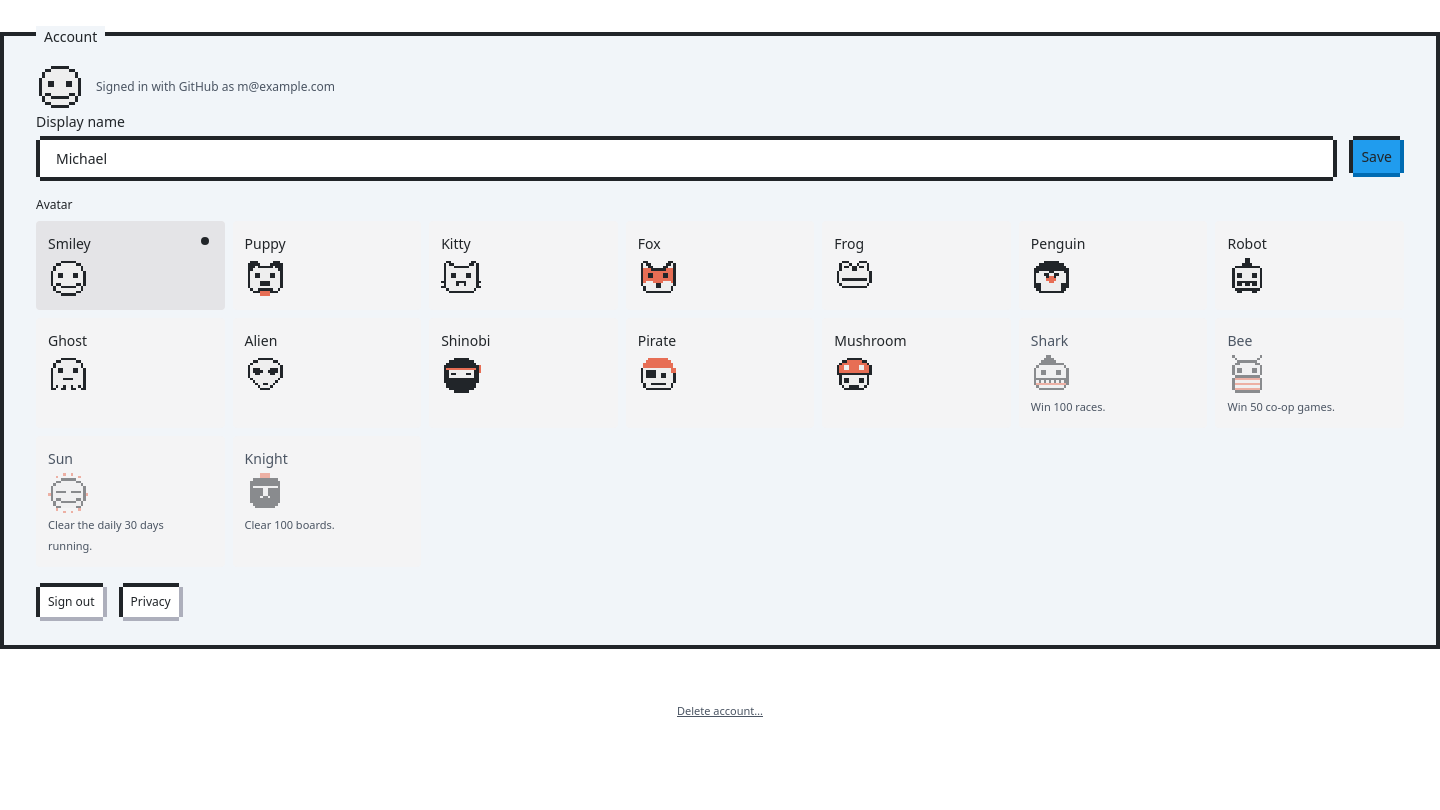
Scenario: saves a rename and confirms it
Replace the text in the field named "Display name" with "Miguel": (687, 158) [40,140,1333,177]
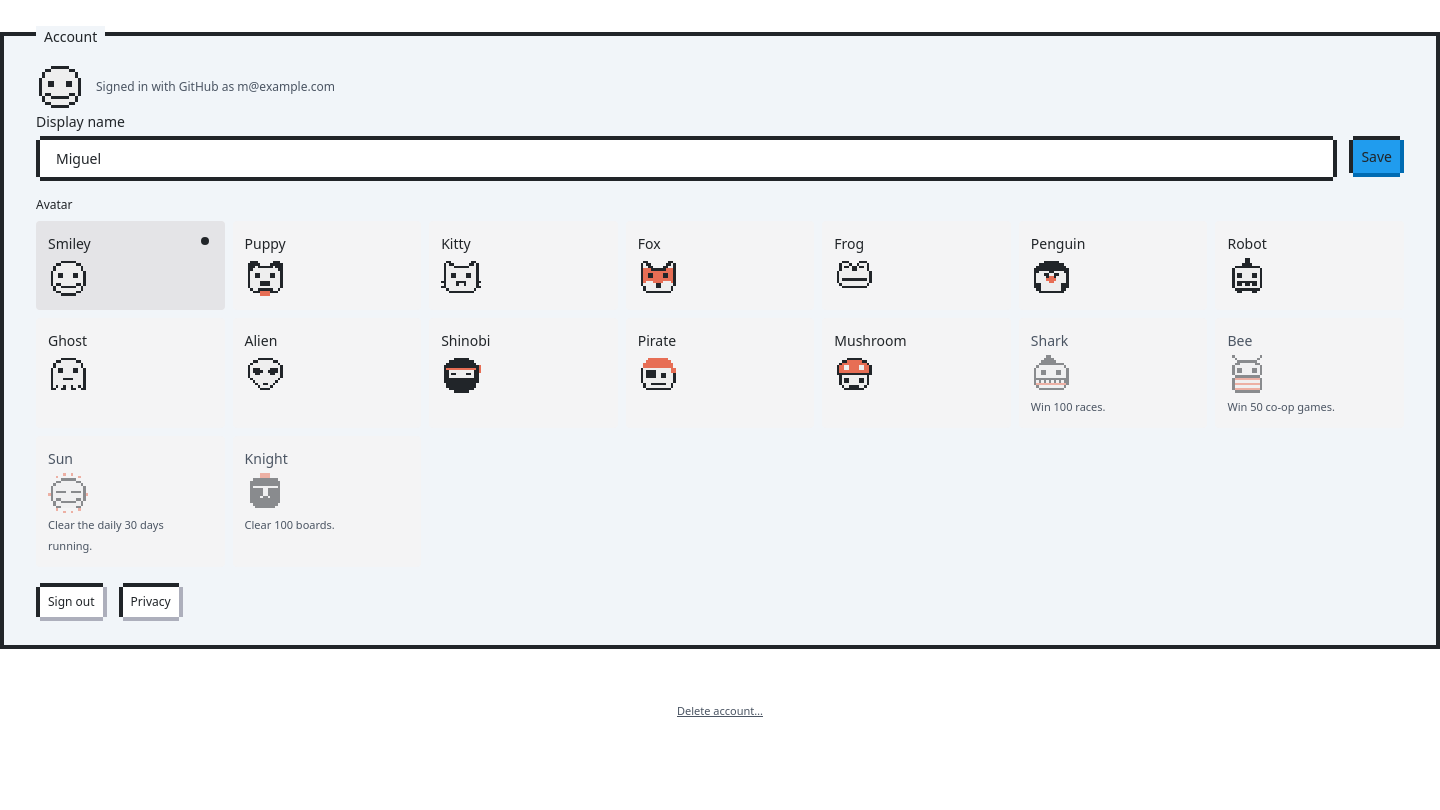
Click the button "Save": (1377, 156) [1353,140,1400,173]
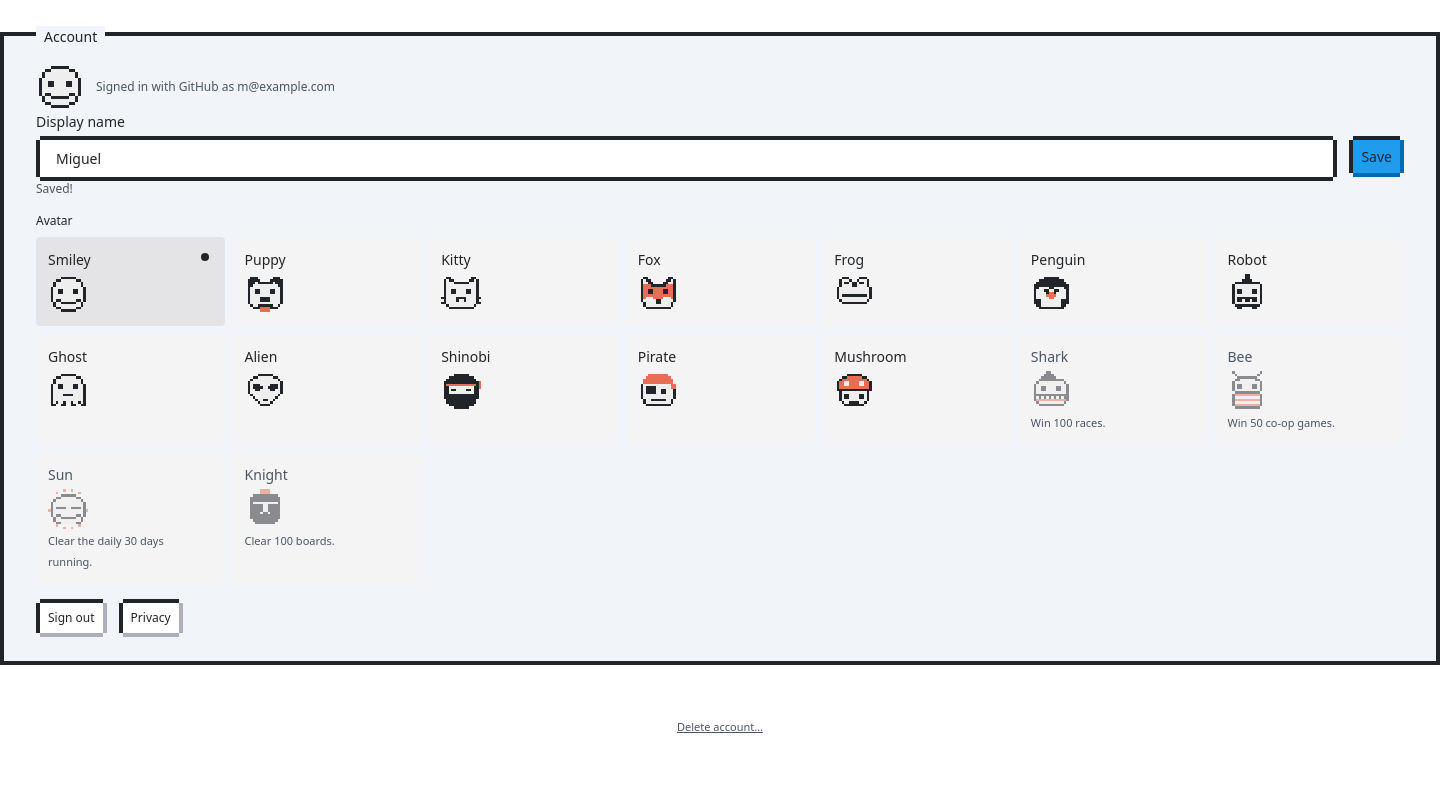
Result: the message reads "Saved!" at [36,180,73,197]
